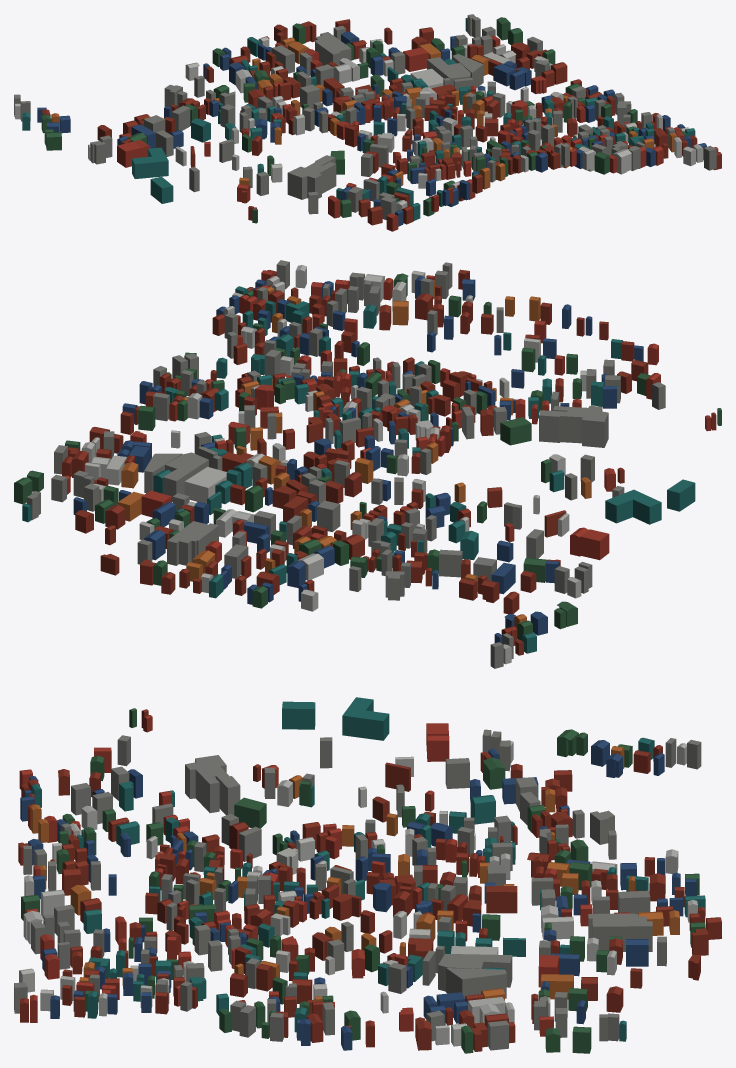
Rendered from near-16-54719-29732.0c387293.glb.
3 renders of one model, top to bottom at view 1: azimuth 30°, elevation 25°; view 2: azimuth 150°, elevation 25°; view 3: azimuth 270°, elevation 25°, orthographic. The views are drawn at different scales.
Size of the model in its own units: 600 by 101 by 594.
